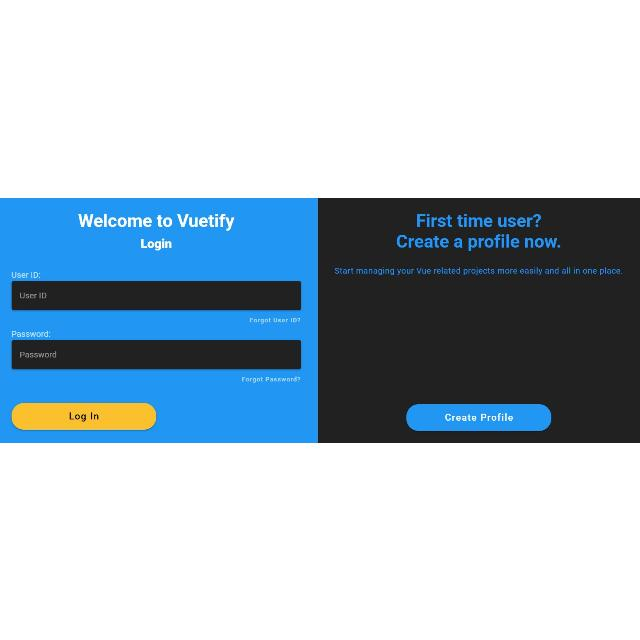QLabel: (76, 210, 234, 232), (332, 266, 622, 276), (396, 233, 560, 250), (416, 212, 544, 230), (444, 412, 514, 422), (241, 375, 301, 383), (139, 236, 173, 250), (249, 316, 301, 324), (68, 411, 100, 422), (11, 329, 51, 337), (10, 270, 40, 278)
VBtn: (406, 403, 552, 431), (11, 402, 157, 430)
VTextField: (11, 280, 302, 310), (11, 339, 301, 368)
